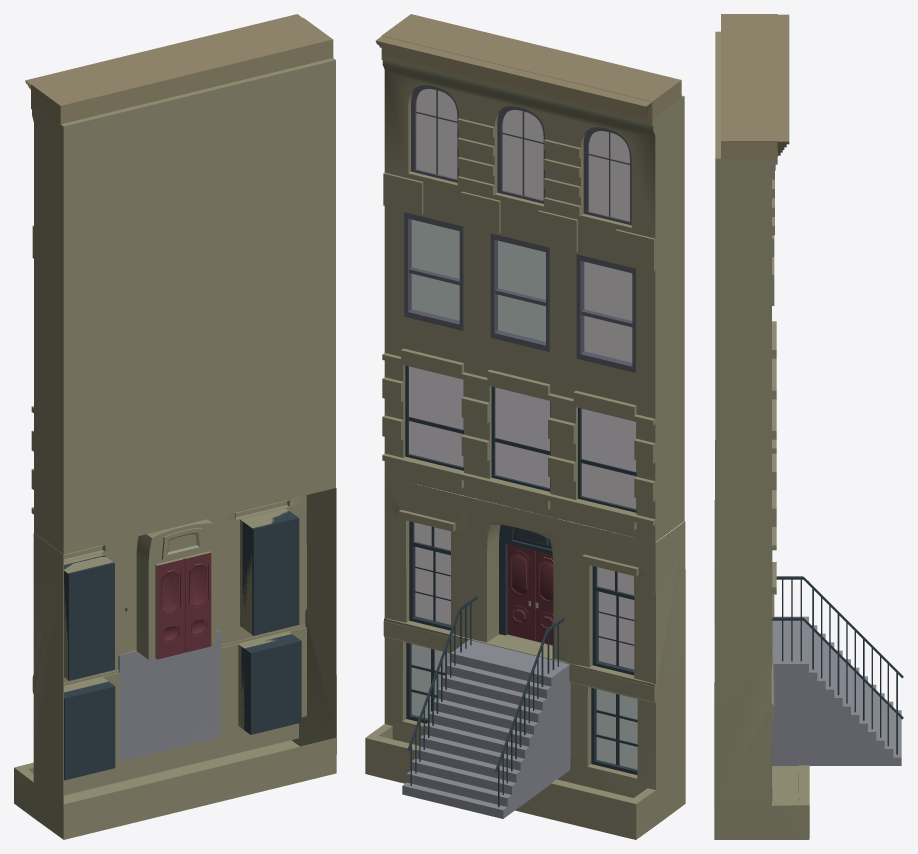
The picture shows the model from 3 angles, left to right: view 1: azimuth 30°, elevation 25°; view 2: azimuth 150°, elevation 25°; view 3: azimuth 270°, elevation 25°; orthographic projection. The views are drawn at different scales.
Parts seen in each view (by area): view 1: Etage005; view 2: Etage005; view 3: Etage005.
Part boxes in pixels (x1,y1,x2,y2): Etage005: (14, 14, 336, 839); Etage005: (365, 14, 685, 839); Etage005: (714, 14, 903, 839).
Size of the model in its own units: 316 by 808 by 198.
